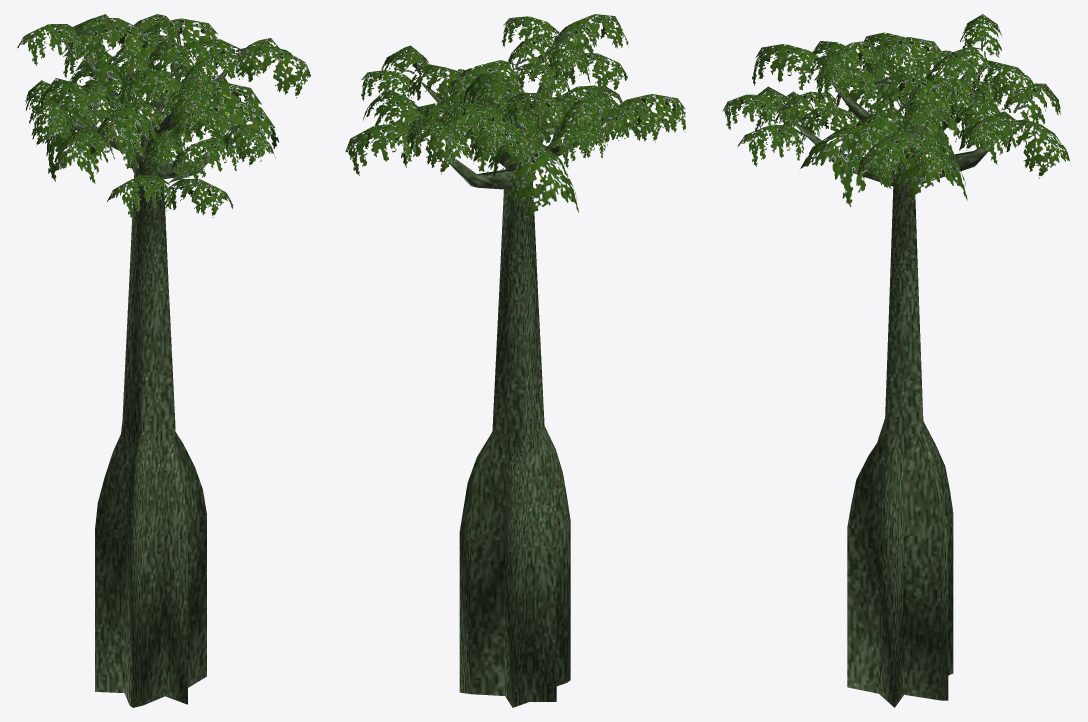
Rendered from jungle_tree_1_9.dae.
3 renders of one model, left to right at view 1: azimuth 30°, elevation 25°; view 2: azimuth 150°, elevation 25°; view 3: azimuth 270°, elevation 25°, orthographic.
Visible parts, largest first — view 1: Plane.025; view 2: Plane.025; view 3: Plane.025.
Boxes of the visible parts, left/top/right/bottom form: Plane.025: left=17, top=14, right=310, bottom=707; Plane.025: left=345, top=14, right=685, bottom=707; Plane.025: left=723, top=14, right=1070, bottom=707.
Bounding box in the file's own units: 0.4632 × 0.5039 × 1.
Materials: 1 (1 with a texture image).
